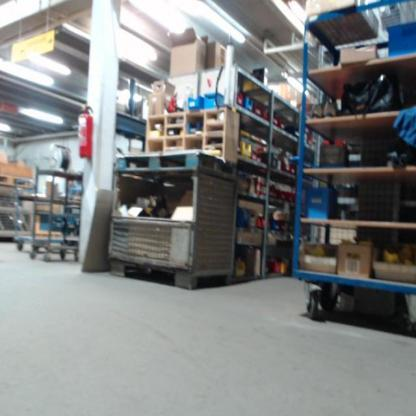pallets: (0, 172, 36, 192)
